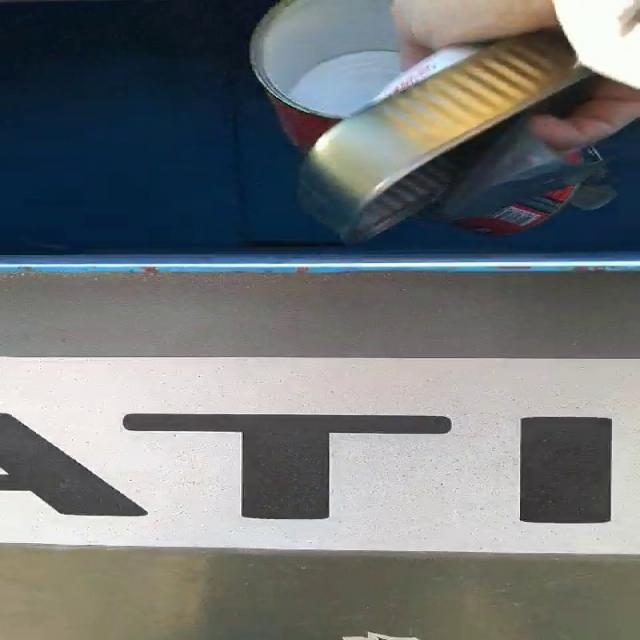bin: (1, 0, 640, 359), (1, 546, 640, 640)
metal: (251, 0, 615, 242)
